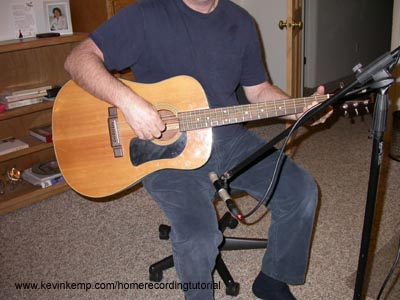guitar: (51, 70, 377, 205)
